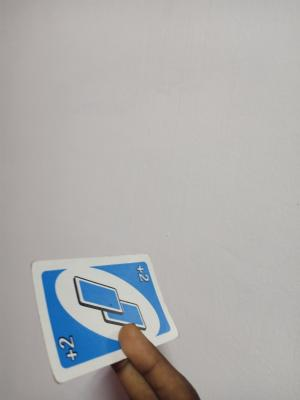blue: (38, 270, 165, 338)
